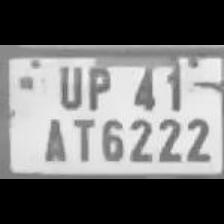1: (158, 53, 186, 111)
2: (152, 114, 182, 162), (182, 113, 210, 163), (126, 114, 154, 162)
4: (126, 59, 158, 109)
6: (96, 116, 126, 162)
A: (38, 112, 68, 164)
P: (82, 64, 114, 110)
T: (68, 114, 96, 164)
U: (52, 60, 83, 110)
